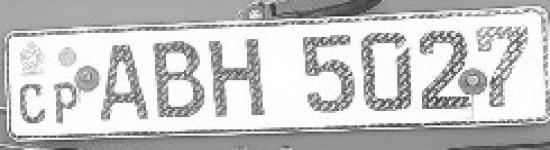0: (358, 31, 415, 114)
2: (418, 32, 473, 113)
5: (296, 31, 358, 116)
7: (476, 24, 530, 110)
A: (100, 42, 154, 124)
B: (152, 35, 205, 120)
C: (12, 80, 50, 127)
H: (208, 38, 269, 118)
P: (53, 81, 79, 125)
